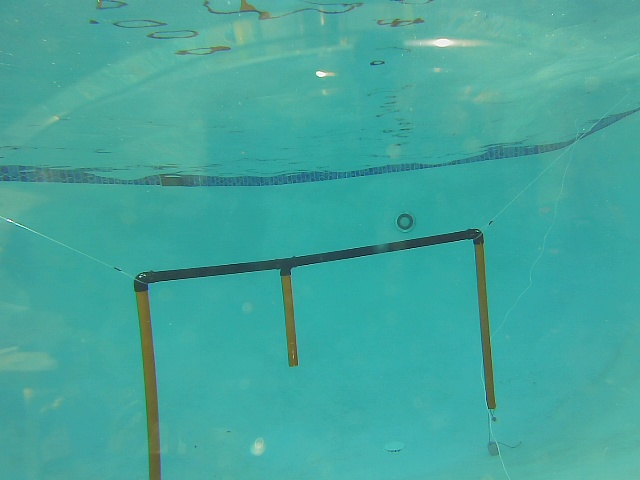Gate: (129, 286, 169, 479), (472, 242, 500, 413), (276, 270, 302, 367)
